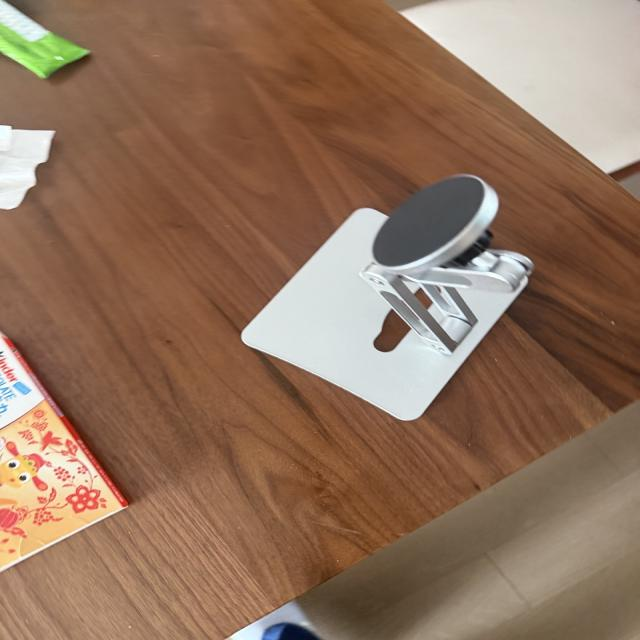phone holder: (223, 170, 549, 426)
